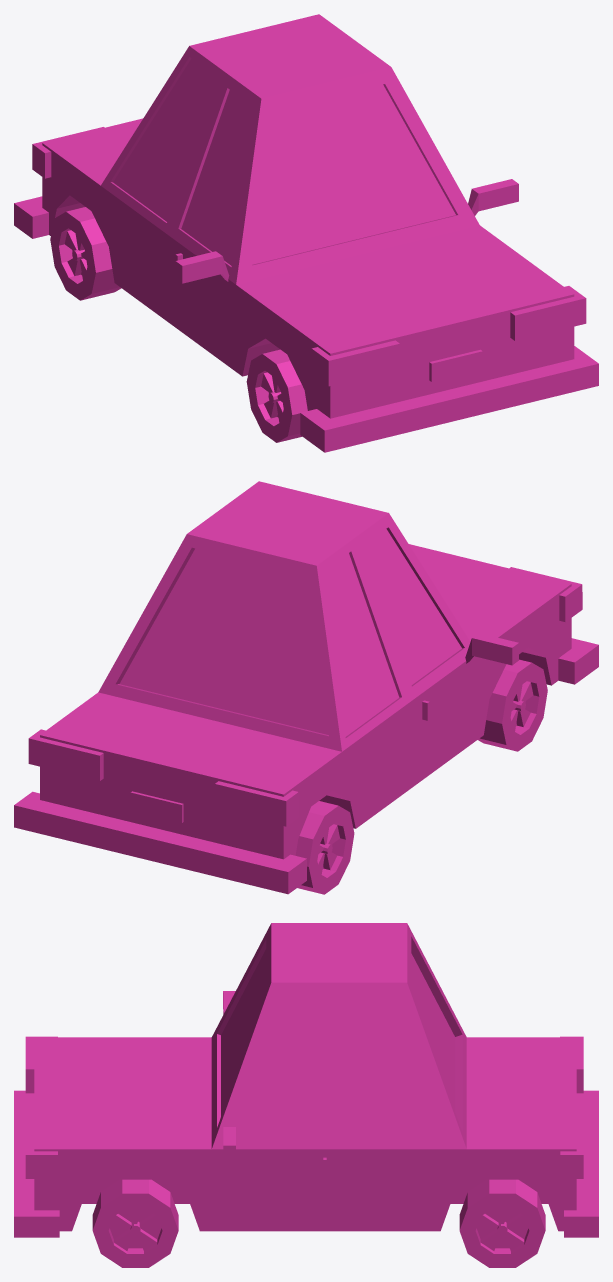
File: car.fbx
The picture shows the model from 3 angles, top to bottom: view 1: azimuth 30°, elevation 25°; view 2: azimuth 150°, elevation 25°; view 3: azimuth 270°, elevation 25°; orthographic projection. The views are drawn at different scales.
Parts seen in each view (by area): view 1: Cube; view 2: Cube; view 3: Cube.
Part boxes in pixels (box(x1,y1,x2,y2)): Cube: box(14, 14, 598, 452); Cube: box(14, 481, 598, 894); Cube: box(14, 923, 598, 1267).
Size of the model in its own units: 276 by 212 by 441.
